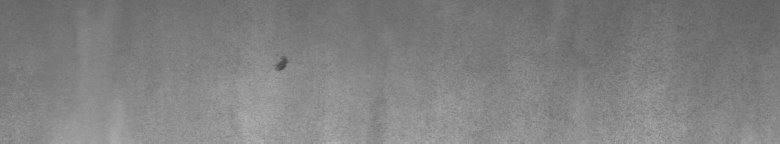fi: (272, 53, 293, 80)
